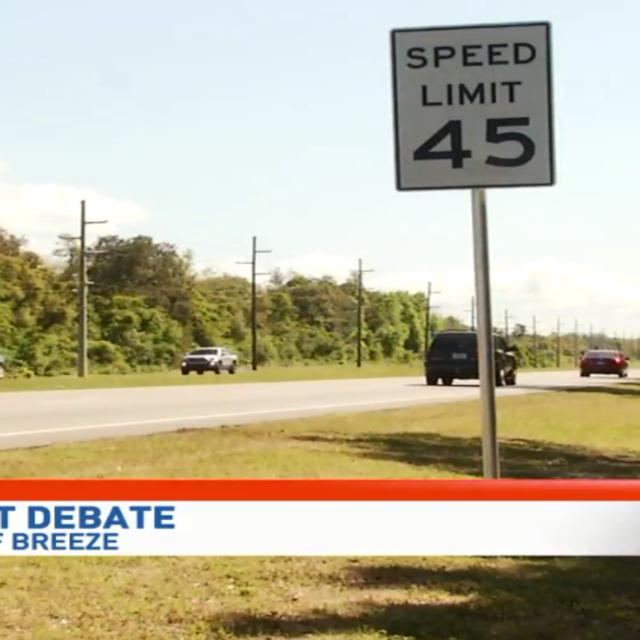speedLimit45: (390, 22, 554, 189)
